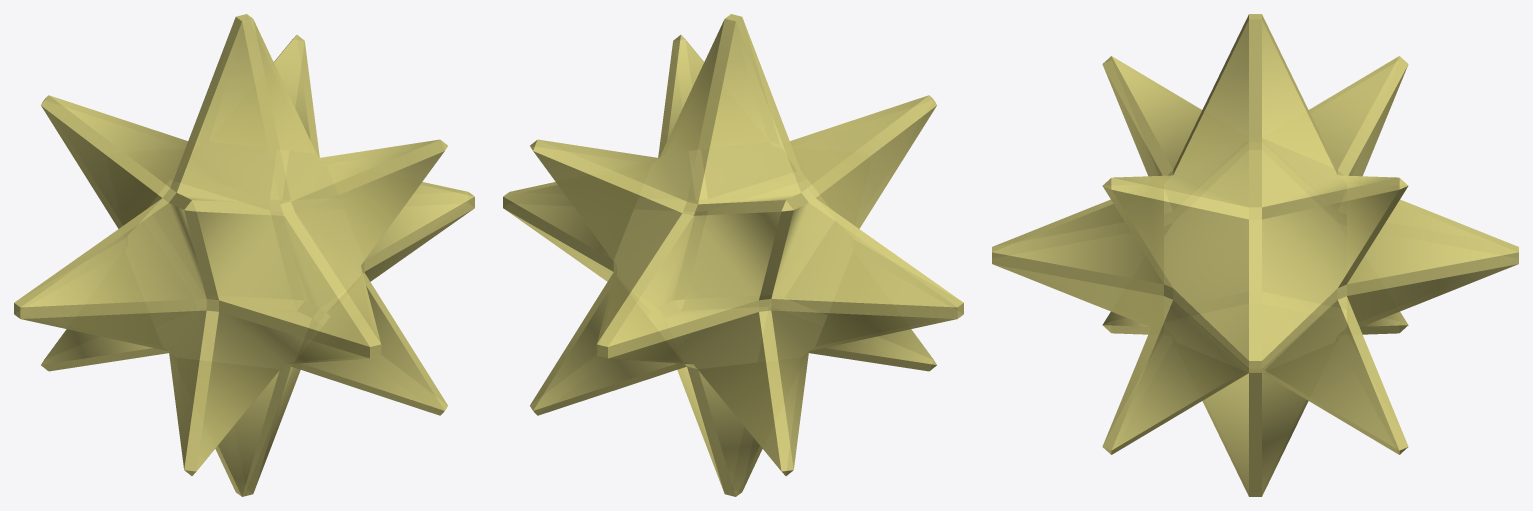
The model's file is houseki0702.fbx.
3 renders of one model, left to right at view 1: azimuth 30°, elevation 25°; view 2: azimuth 150°, elevation 25°; view 3: azimuth 270°, elevation 25°, orthographic.
Visible parts, largest first — view 1: houseki7:pPlatonic1; view 2: houseki7:pPlatonic1; view 3: houseki7:pPlatonic1.
Part boxes in pixels (bbox=[...]): houseki7:pPlatonic1: bbox=[14, 14, 474, 496]; houseki7:pPlatonic1: bbox=[503, 14, 963, 496]; houseki7:pPlatonic1: bbox=[992, 14, 1518, 496].
Bounding box in the file's own units: 78.93 × 78.93 × 78.93.
